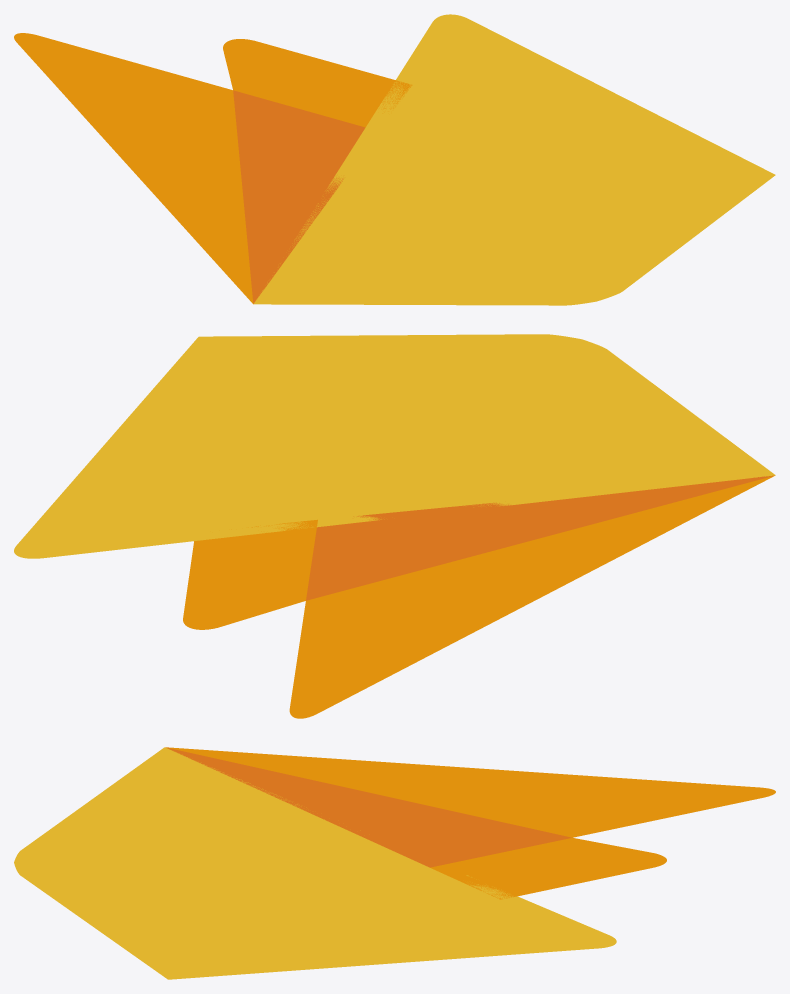
File: firebase.glb
The picture shows the model from 3 angles, top to bottom: view 1: azimuth 30°, elevation 25°; view 2: azimuth 150°, elevation 25°; view 3: azimuth 270°, elevation 25°; orthographic projection. The views are drawn at different scales.
Parts seen in each view (by area): view 1: Curve.002, Curve.003, Curve.001, Curve; view 2: Curve.002, Curve.003, Curve.001, Curve; view 3: Curve.002, Curve.003, Curve.001, Curve.
Boxes of the visible parts, bbox=[...] form: Curve.002: bbox=[254, 14, 775, 305]; Curve.003: bbox=[14, 33, 253, 303]; Curve.001: bbox=[233, 90, 365, 303]; Curve: bbox=[223, 39, 412, 127]; Curve.002: bbox=[14, 334, 775, 558]; Curve.003: bbox=[289, 475, 774, 718]; Curve.001: bbox=[306, 475, 773, 600]; Curve: bbox=[183, 519, 317, 629]; Curve.002: bbox=[14, 747, 616, 979]; Curve.003: bbox=[166, 747, 775, 837]; Curve.001: bbox=[165, 747, 571, 867]; Curve: bbox=[430, 837, 666, 899].
Size of the model in its own units: 73.97 by 0 by 102.
